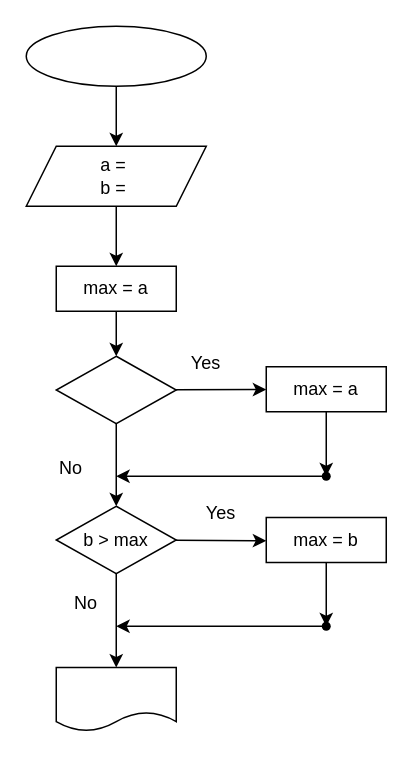
Some shapes in this 413 by 758 pixel diagram are drawn without their labels. Each missing label, with the centre of its shape:
a > max: the point at 115,389
print max: the point at 115,698
start: the point at 115,55
